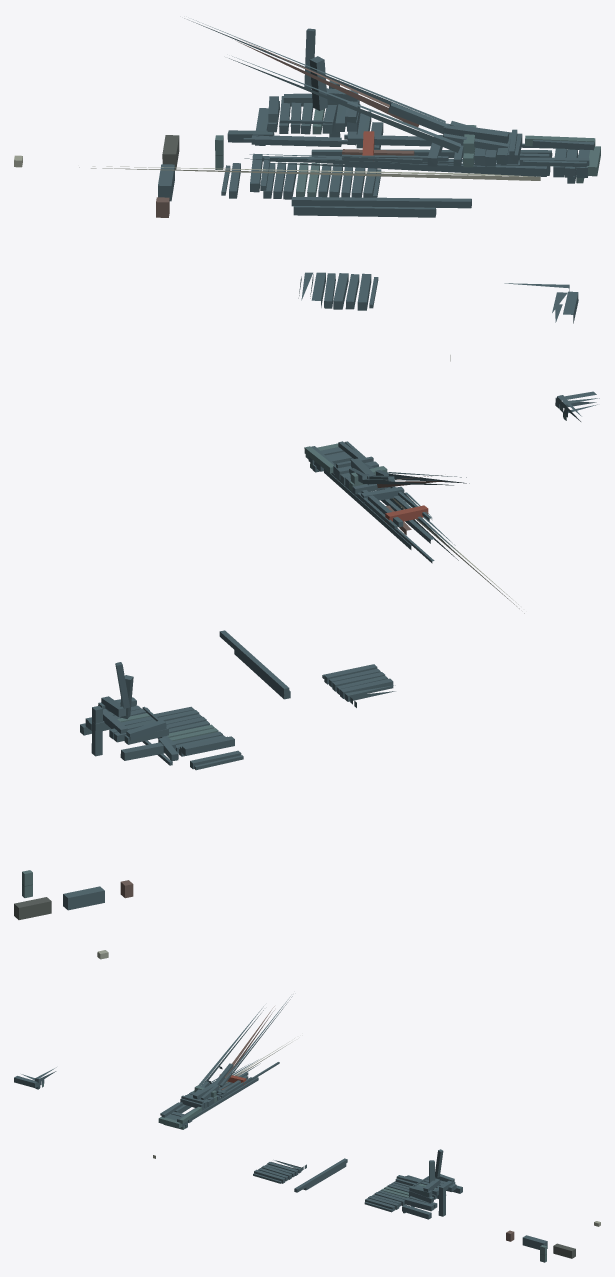
File: terminal-2---136_-19.glb
The picture shows the model from 3 angles, top to bottom: view 1: azimuth 30°, elevation 25°; view 2: azimuth 150°, elevation 25°; view 3: azimuth 270°, elevation 25°; orthographic projection. The views are drawn at different scales.
Parts seen in each view (by area): view 1: measured-industrial; view 2: measured-industrial; view 3: measured-industrial.
Part boxes in pixels (bbox=[...]): measured-industrial: bbox=[14, 18, 600, 361]; measured-industrial: bbox=[14, 391, 599, 959]; measured-industrial: bbox=[14, 996, 600, 1262].
Bounding box in the file's own units: 88.18 × 79.03 × 207.
